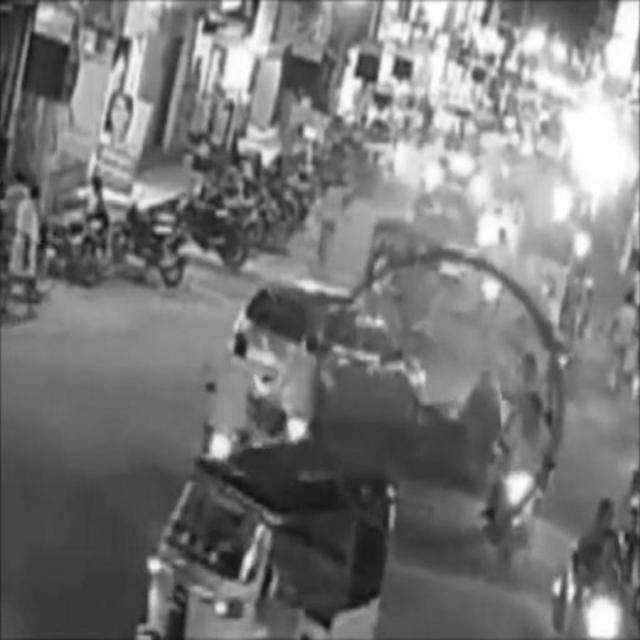vehicle: (134, 450, 395, 640), (229, 281, 427, 439), (483, 355, 556, 562), (200, 327, 257, 464)
